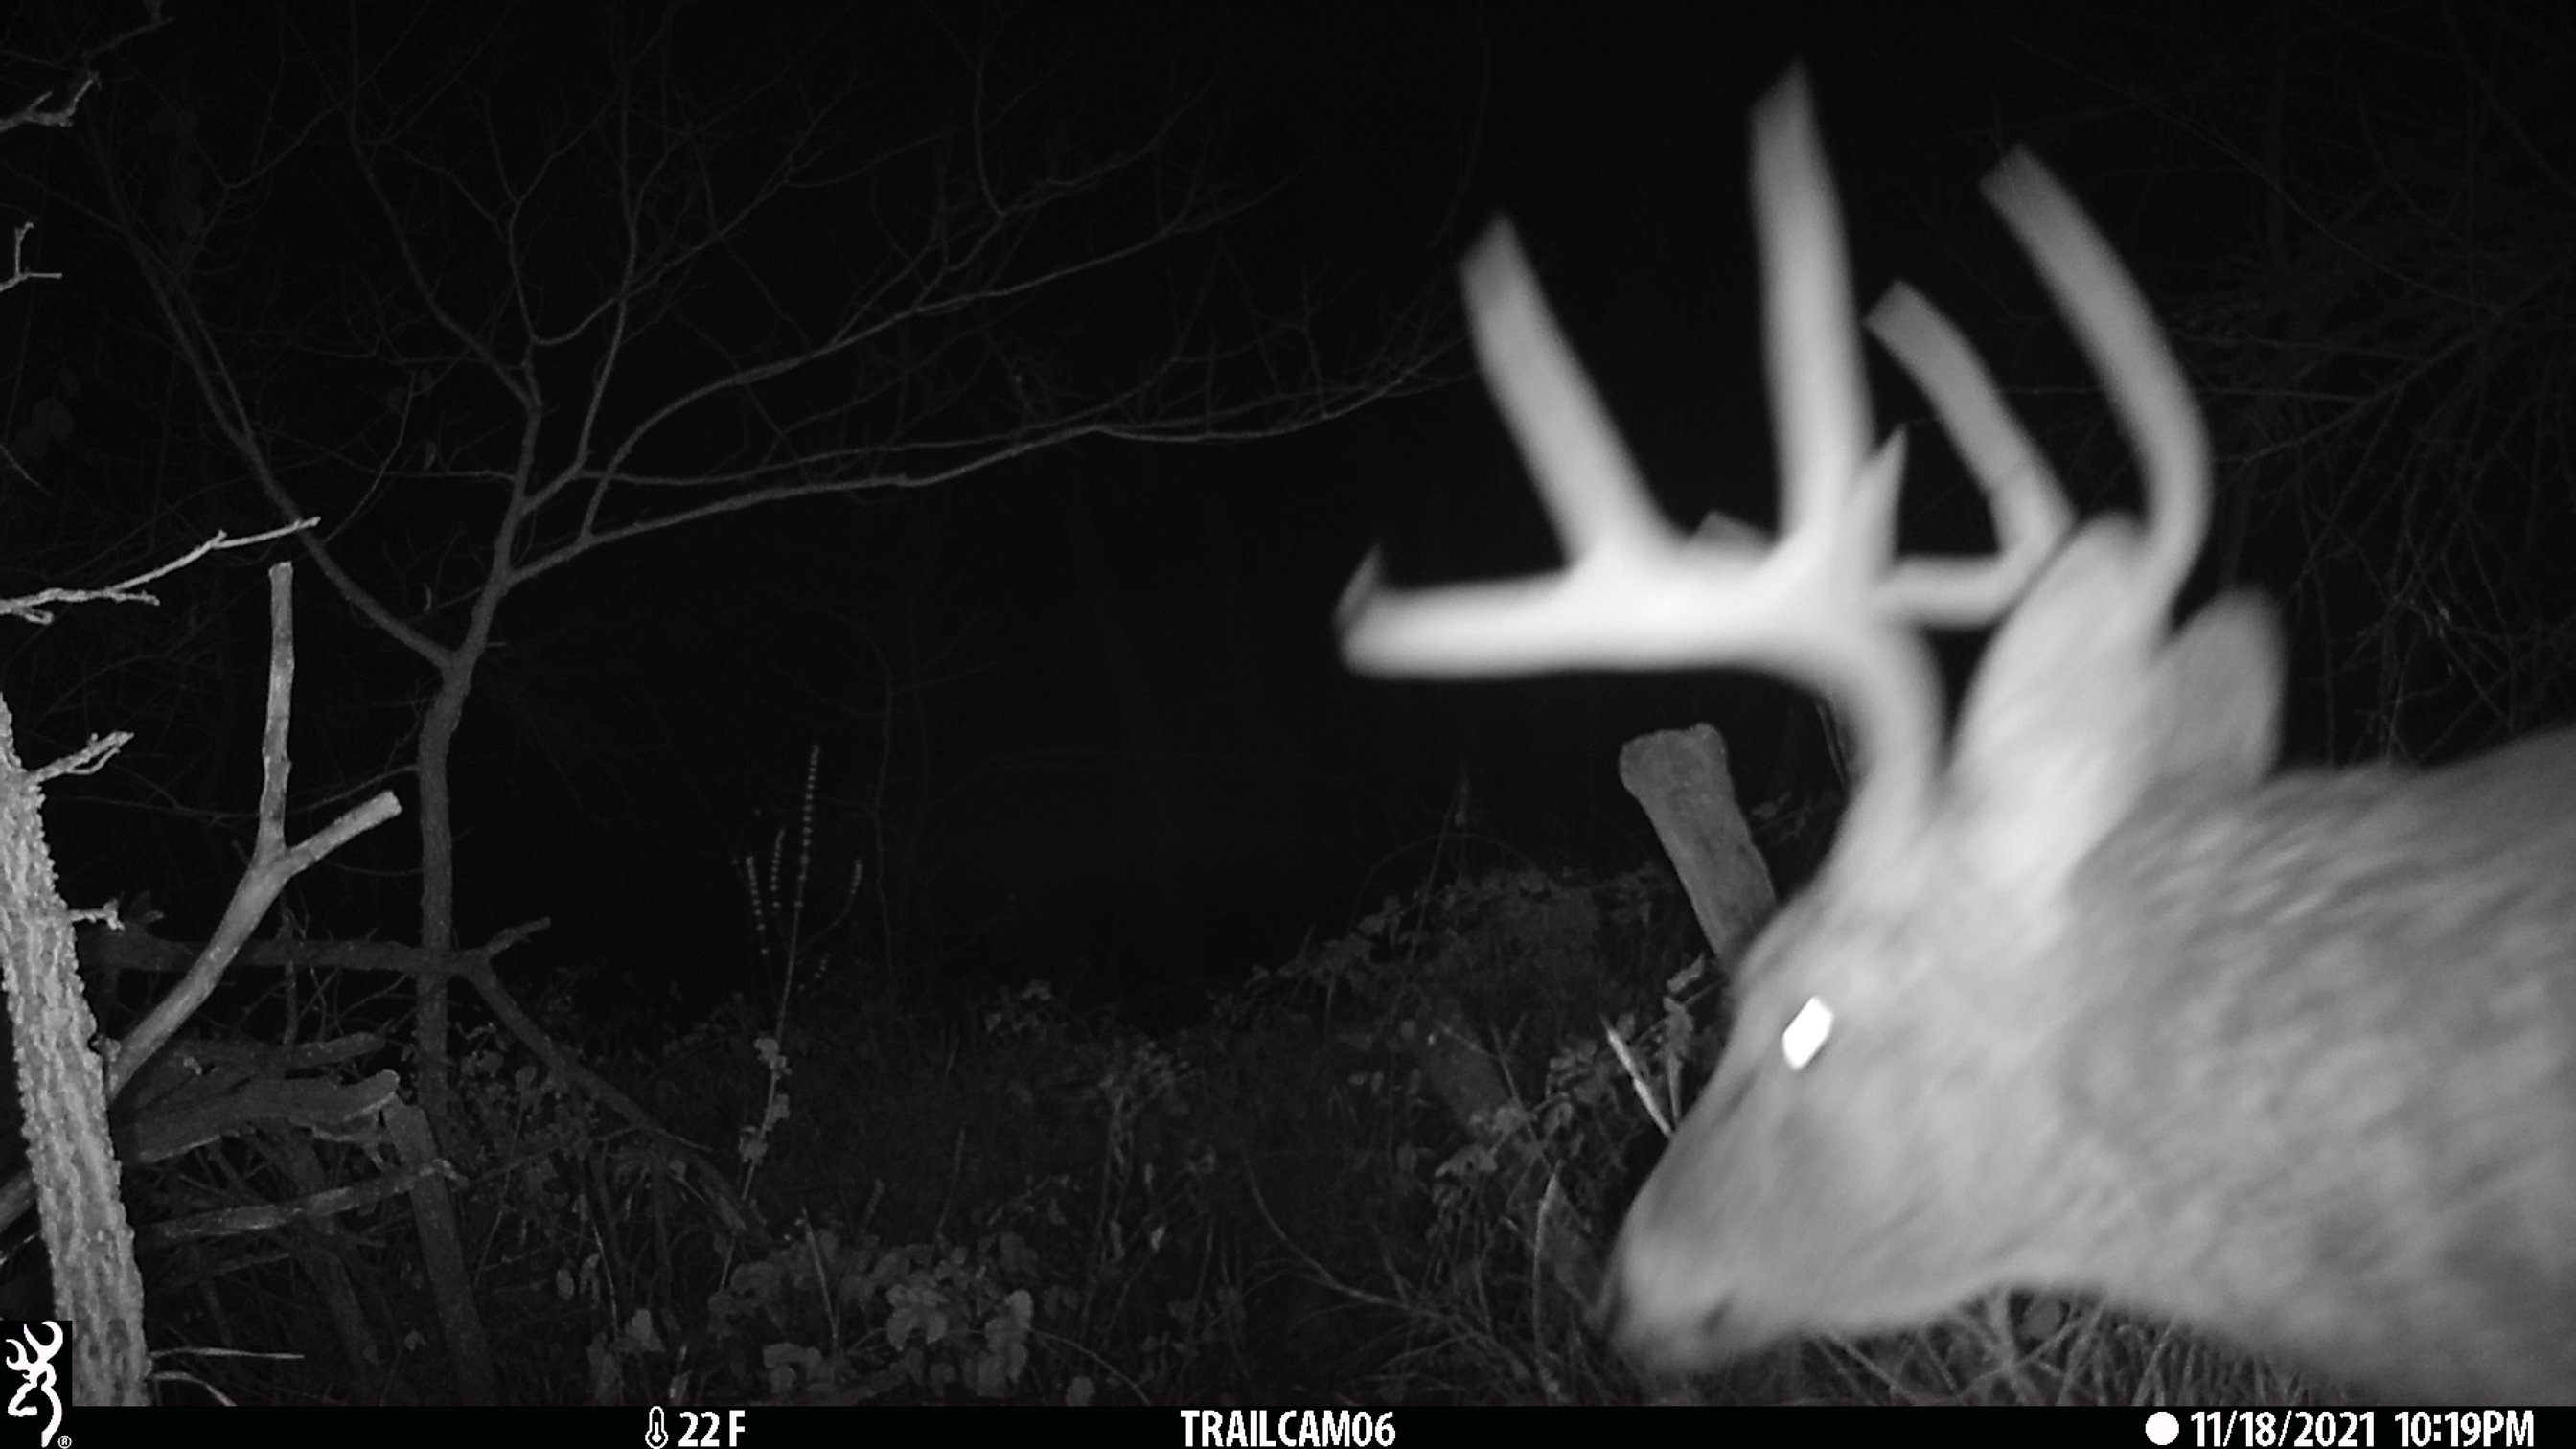DeerBuck: (1328, 64, 2575, 1405)
DeerBuckHead: (1328, 66, 2295, 1383)
